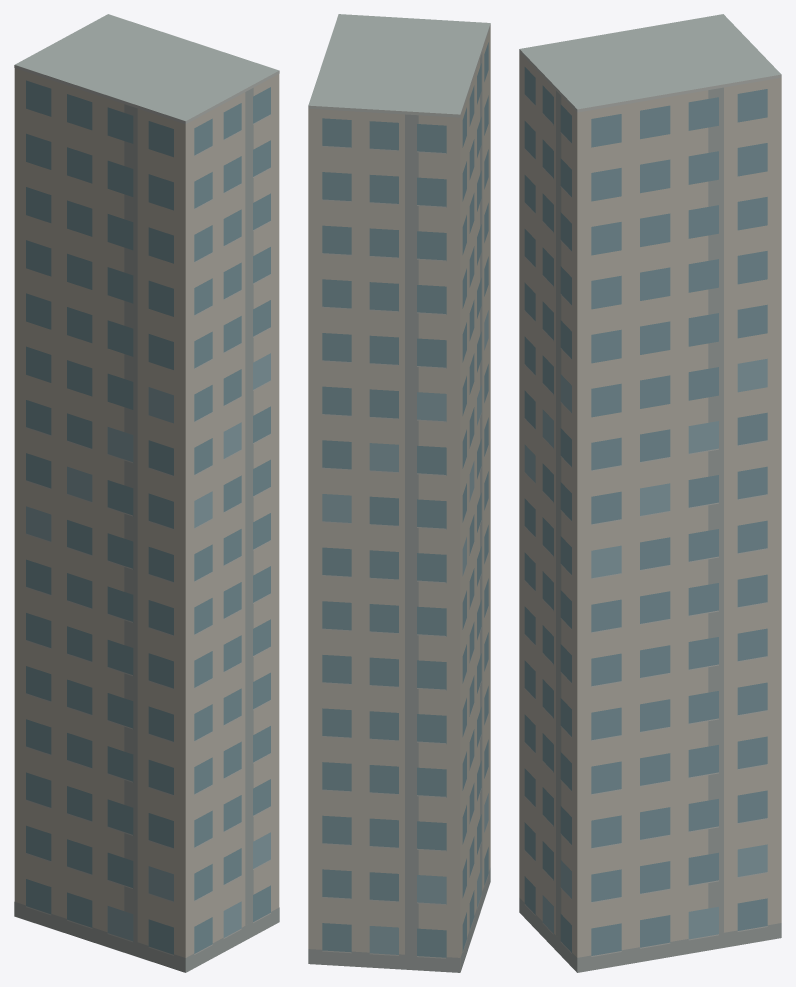
Rendered from residential-289122b9-2a12-4808-beb1-21aa266f0983.glb.
3 renders of one model, left to right at view 1: azimuth 30°, elevation 25°; view 2: azimuth 150°, elevation 25°; view 3: azimuth 270°, elevation 25°, orthographic.
Parts seen in each view (by area): view 1: residential-289122b9-2a12-4808-beb1-21aa266f0983.tmp; view 2: residential-289122b9-2a12-4808-beb1-21aa266f0983.tmp; view 3: residential-289122b9-2a12-4808-beb1-21aa266f0983.tmp.
Boxes of the visible parts, box(x1,y1,x2,y2) form: residential-289122b9-2a12-4808-beb1-21aa266f0983.tmp: box(14, 14, 279, 972); residential-289122b9-2a12-4808-beb1-21aa266f0983.tmp: box(308, 14, 490, 972); residential-289122b9-2a12-4808-beb1-21aa266f0983.tmp: box(519, 14, 781, 972).
Size of the model in its own units: 15.89 by 67 by 18.45.
